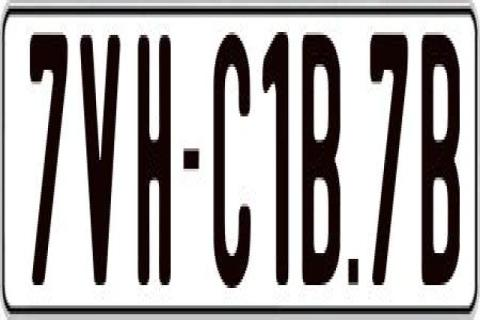0: (29, 27, 72, 280), (370, 35, 410, 299), (259, 26, 291, 294)
B: (419, 35, 460, 288), (300, 27, 338, 286)
C: (213, 35, 250, 299)
H: (137, 26, 172, 276)
V: (80, 29, 122, 282)
